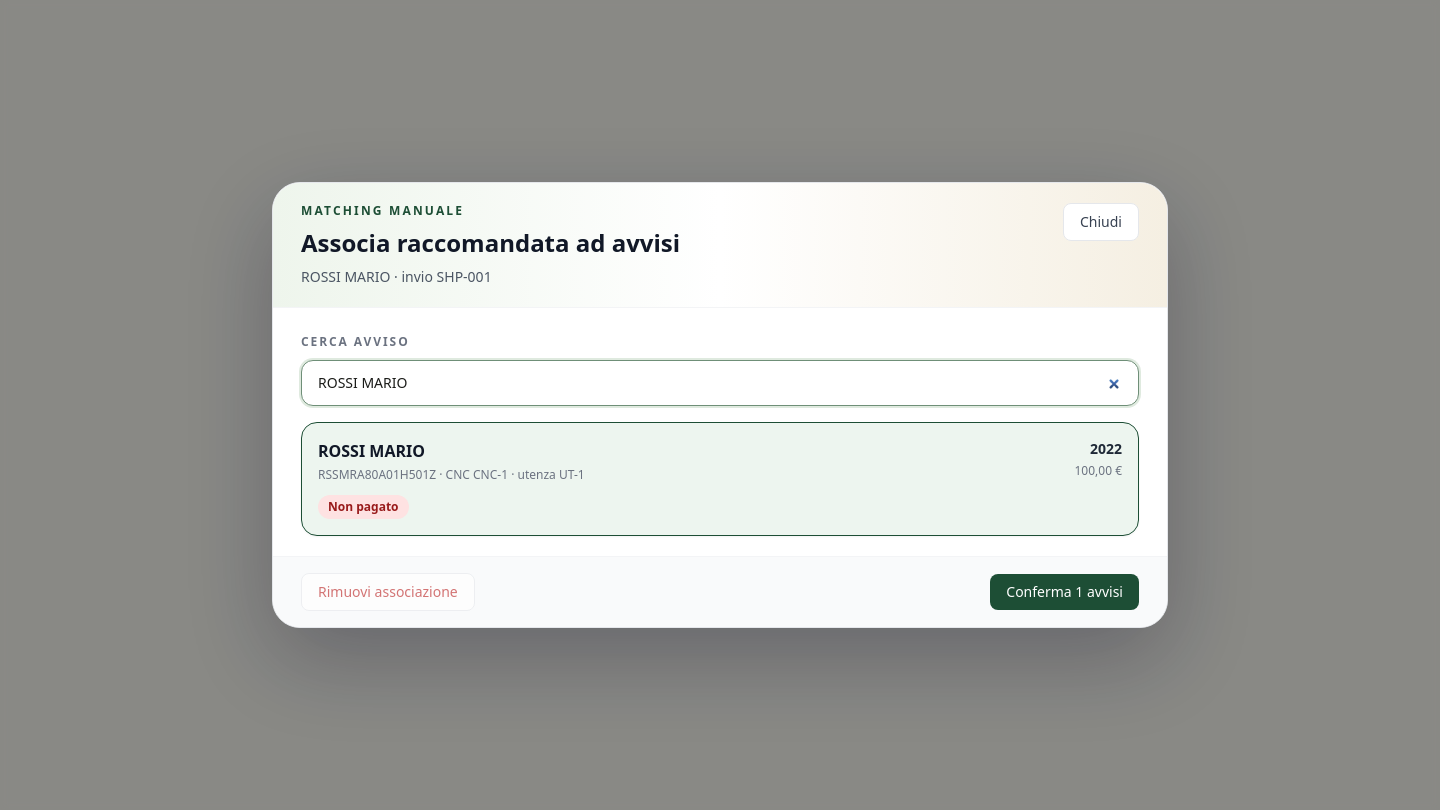
Test case: RegisteredMailsConsole › can deselect an existing annual notice without saving
The width and height of the screenshot is (1440, 810).
What coordinates should you click on to do the following:
click the checkbox labelled "ROSSI MARIO"
I would click on:
 (371, 451)
Its box is [301,422,1139,536].
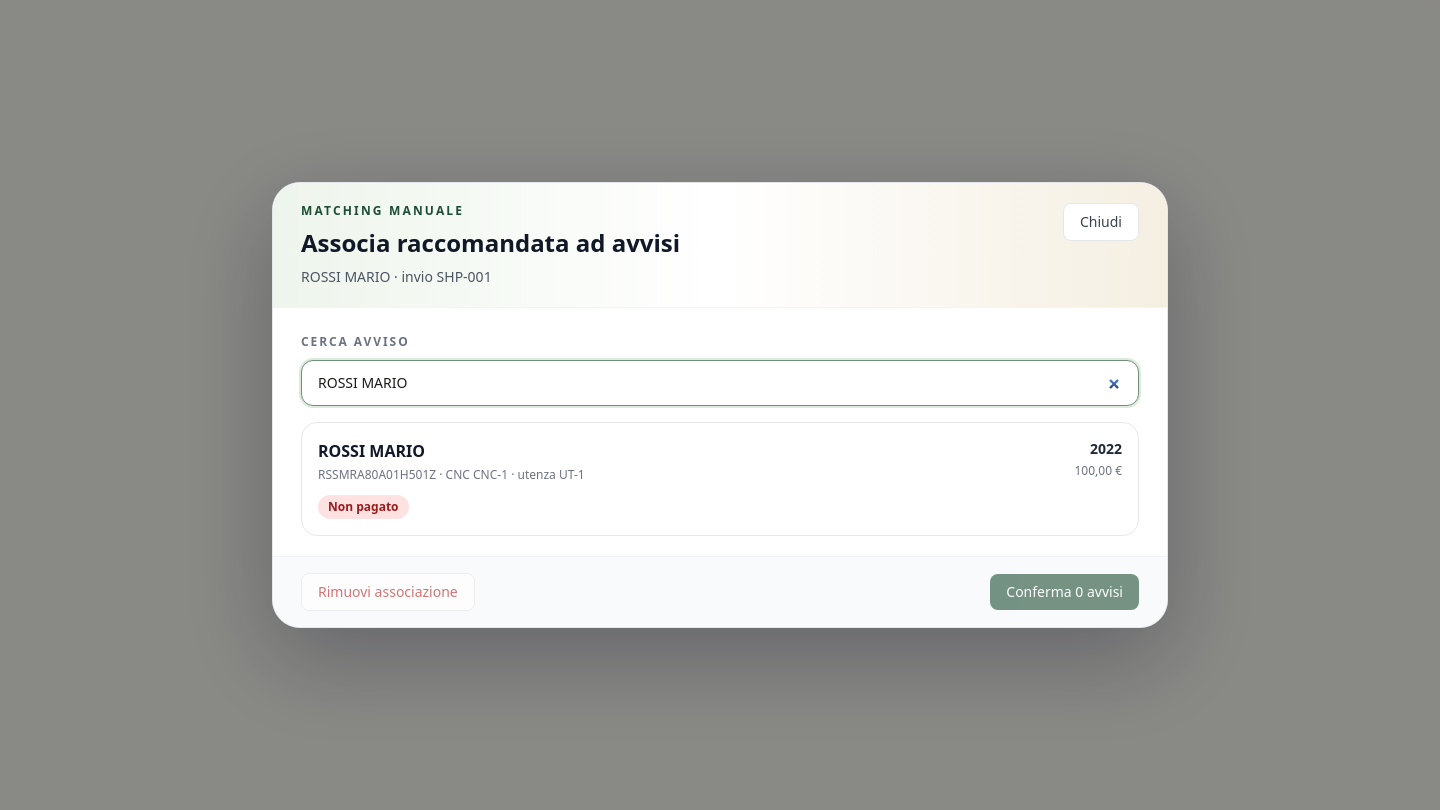
expect the button "Conferma 0 avvisi" is disabled: met, box [990,574,1139,610]
